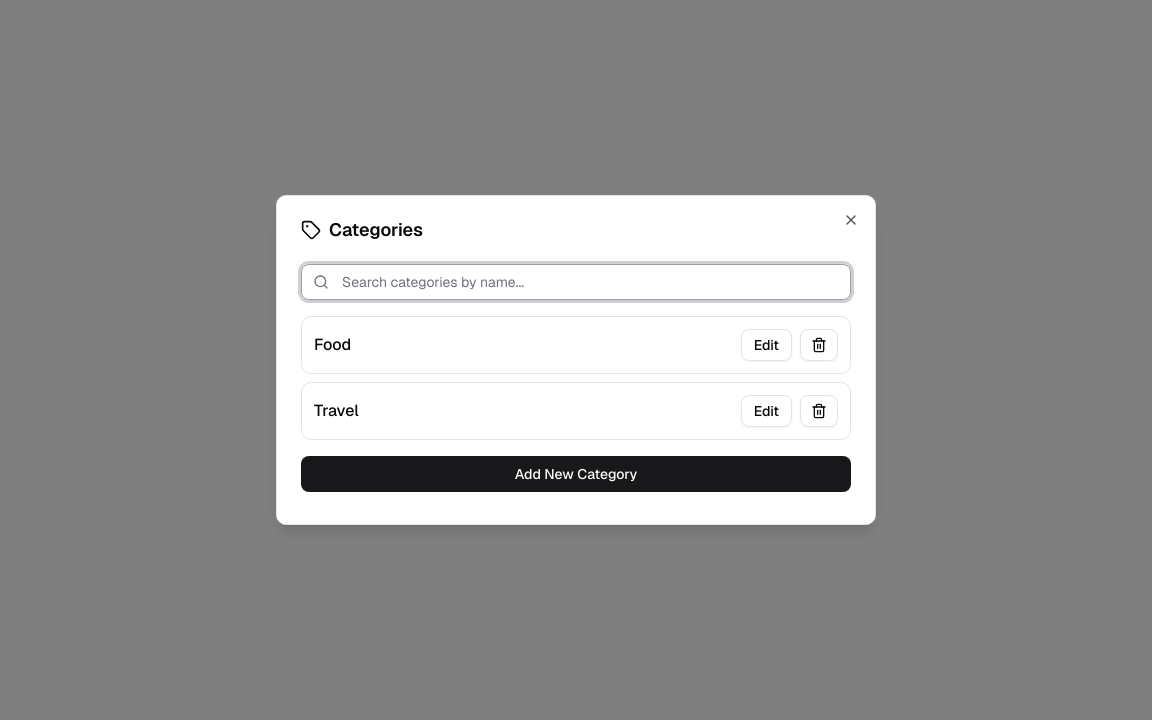
ViewCategoriesModal › filters categories by the search term
This screenshot has width=1152, height=720.
expect the text "Food" is shown: met, box [314,333,351,357]
Type "travel" into the field labelled "Search categories" at (576, 282), box [301,264,851,300]
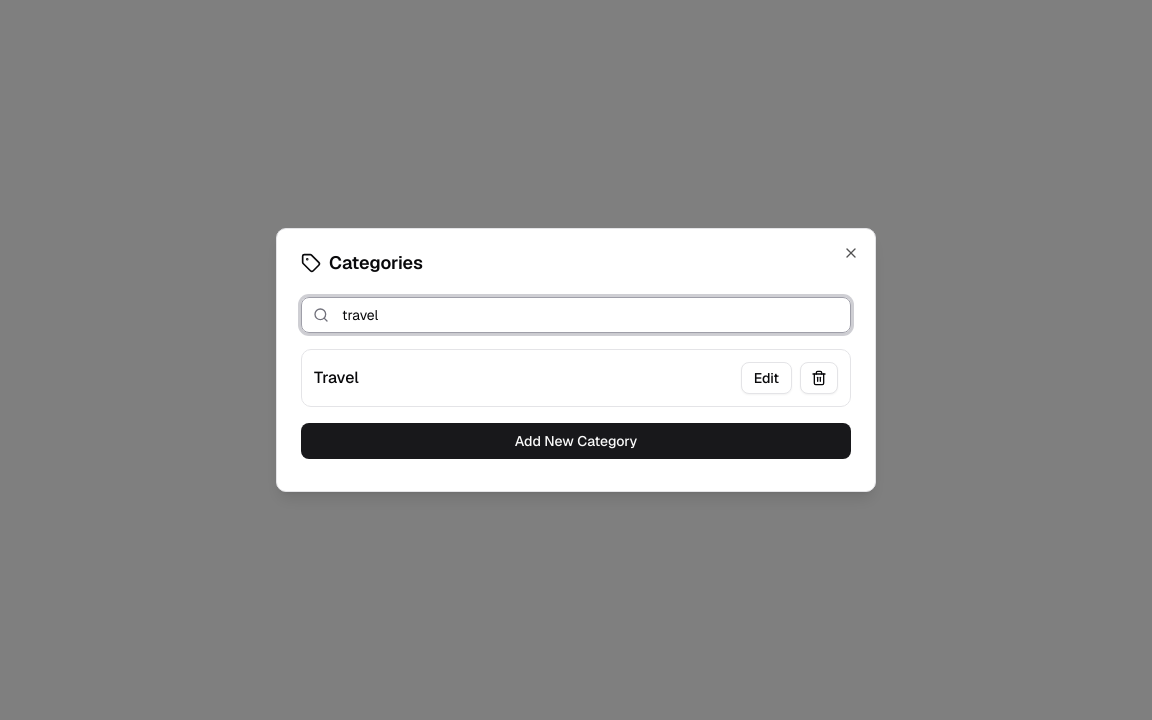
expect the text "Travel" is shown: met, box [314,366,359,390]
expect the text "Food" is gone: met
